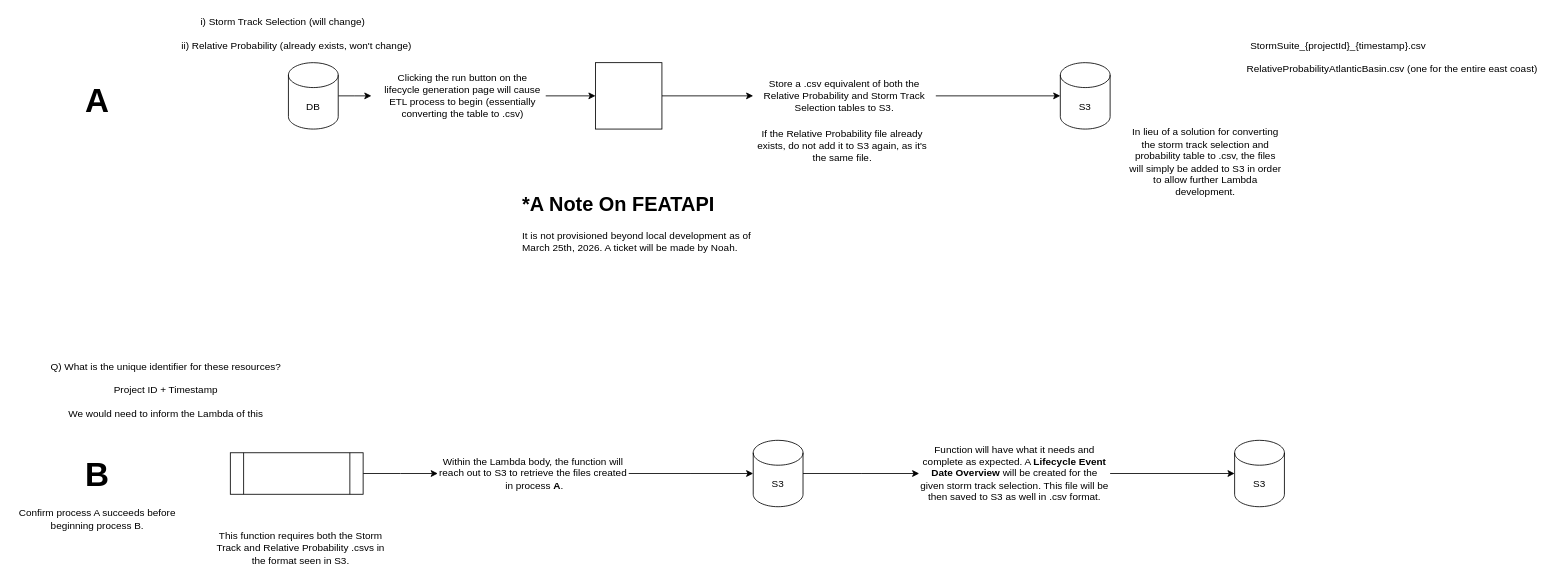
The diagram is 1555 pixels wide and 583 high, and some of its shapes have lost their labels. The shapes that lost their labels are listed below. From the top down, each one's centre as x and y in pixels, then its label:
At pixel 628 95: "FEATAPI*".
At pixel 296 473: "Lifecycle Generator (Lambda)".
